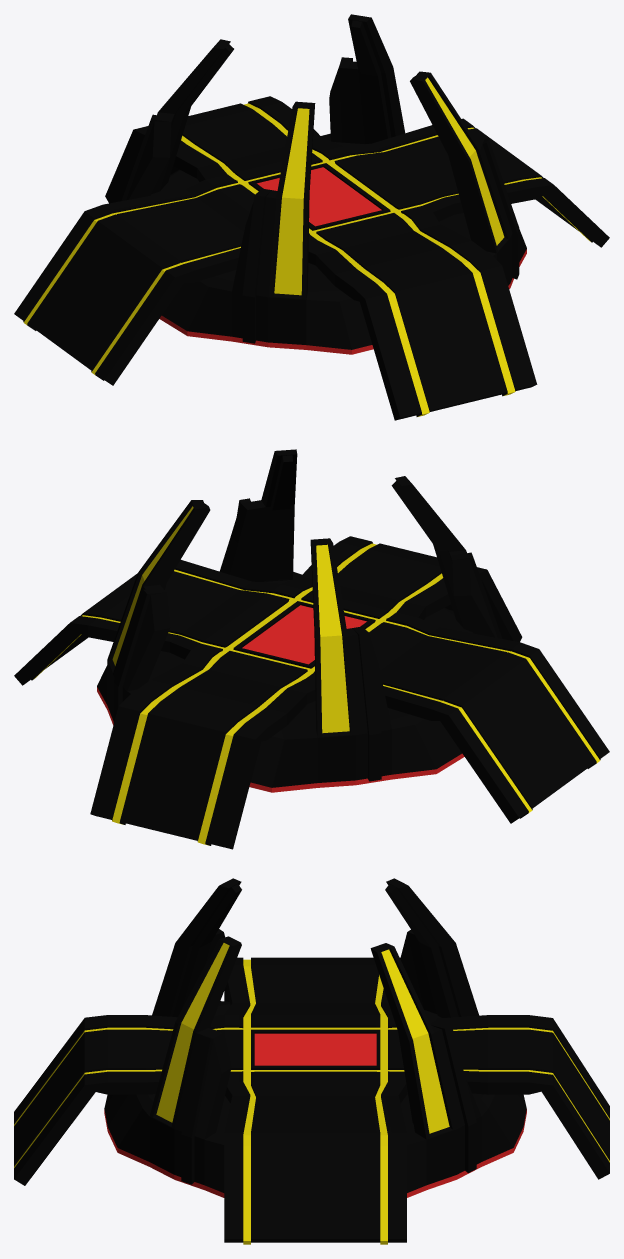
3 renders of one model, top to bottom at view 1: azimuth 30°, elevation 25°; view 2: azimuth 150°, elevation 25°; view 3: azimuth 270°, elevation 25°, orthographic.
Visible parts, largest first — view 1: Plane, Cylinder; view 2: Plane, Cylinder; view 3: Plane, Cylinder.
Part boxes in pixels (<box>): Plane: <box>14,96,609,420</box>; Cylinder: <box>121,14,526,354</box>; Plane: <box>14,536,609,849</box>; Cylinder: <box>97,449,502,792</box>; Plane: <box>14,957,609,1244</box>; Cylinder: <box>104,878,526,1197</box>.
Size of the model in its own units: 295 by 134 by 299.
